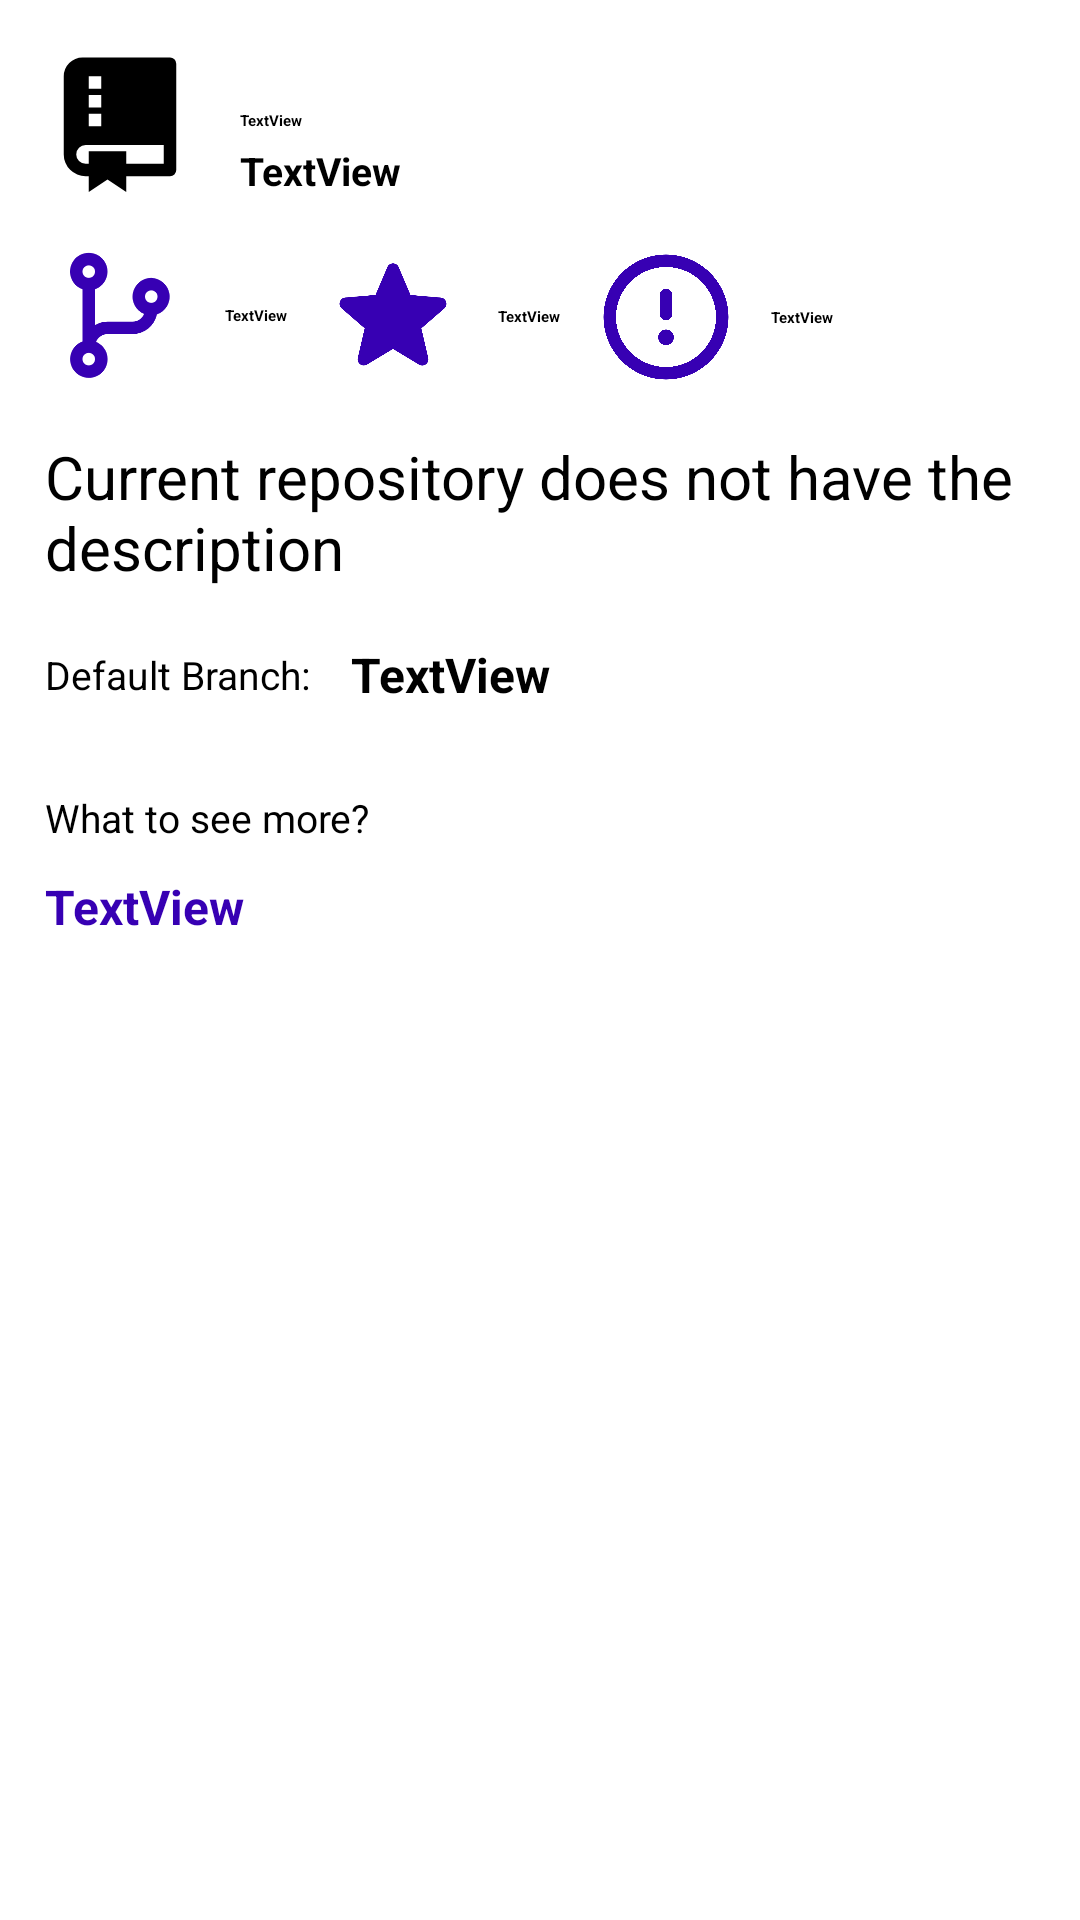

Point at icon controls on the screen. Image size 1080×1920, points as point (x, y).
forks: point (120, 315)
git repository: point (120, 124)
issues: point (666, 317)
star: point (393, 314)
